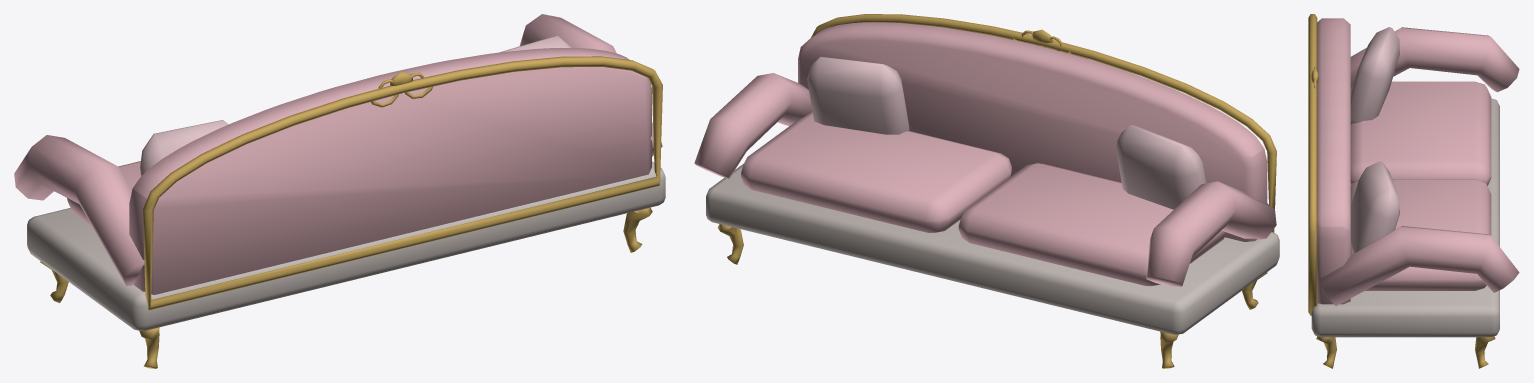
Rendered from sofa.glb.
3 views of the same model, side by side, from view 1: azimuth 30°, elevation 25°; view 2: azimuth 150°, elevation 25°; view 3: azimuth 270°, elevation 25° (orthographic). The views are drawn at different scales.
Parts seen in each view (by area): view 1: sofa; view 2: sofa; view 3: sofa.
Boxes of the visible parts, box(x1,y1,x2,y2) form: sofa: box(14, 14, 665, 368); sofa: box(694, 14, 1279, 368); sofa: box(1308, 14, 1519, 368).
Size of what is drawn, in the model's own units: 2.2 by 0.95 by 0.9.
